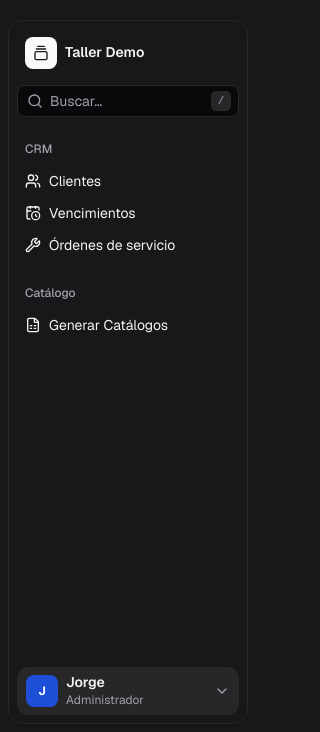
Test case: AppSidebar — menu search (sidebar-redesign WU4a) › a query with no match reads 'Sin resultados para «facturas».'
Type "facturas" into the field named "Buscar en el menú".
click(128, 101); type("facturas")  # box [17,85,239,117]
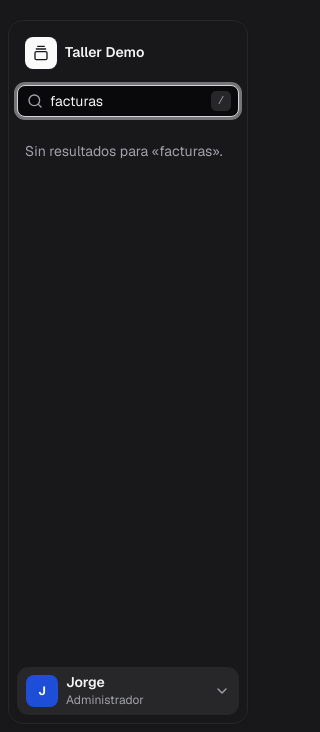
Expected: the links read "Taller Demo", in this order, [25,37,144,69]
Expected: the text "Sin resultados para «facturas»." is shown, [25,142,223,160]
